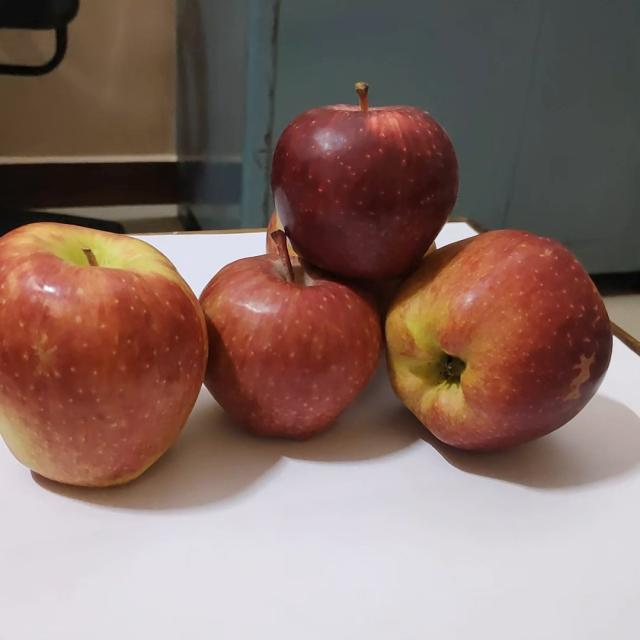apple: (0, 220, 217, 500), (377, 227, 618, 458), (266, 79, 465, 288), (198, 229, 384, 447), (422, 236, 453, 268)
